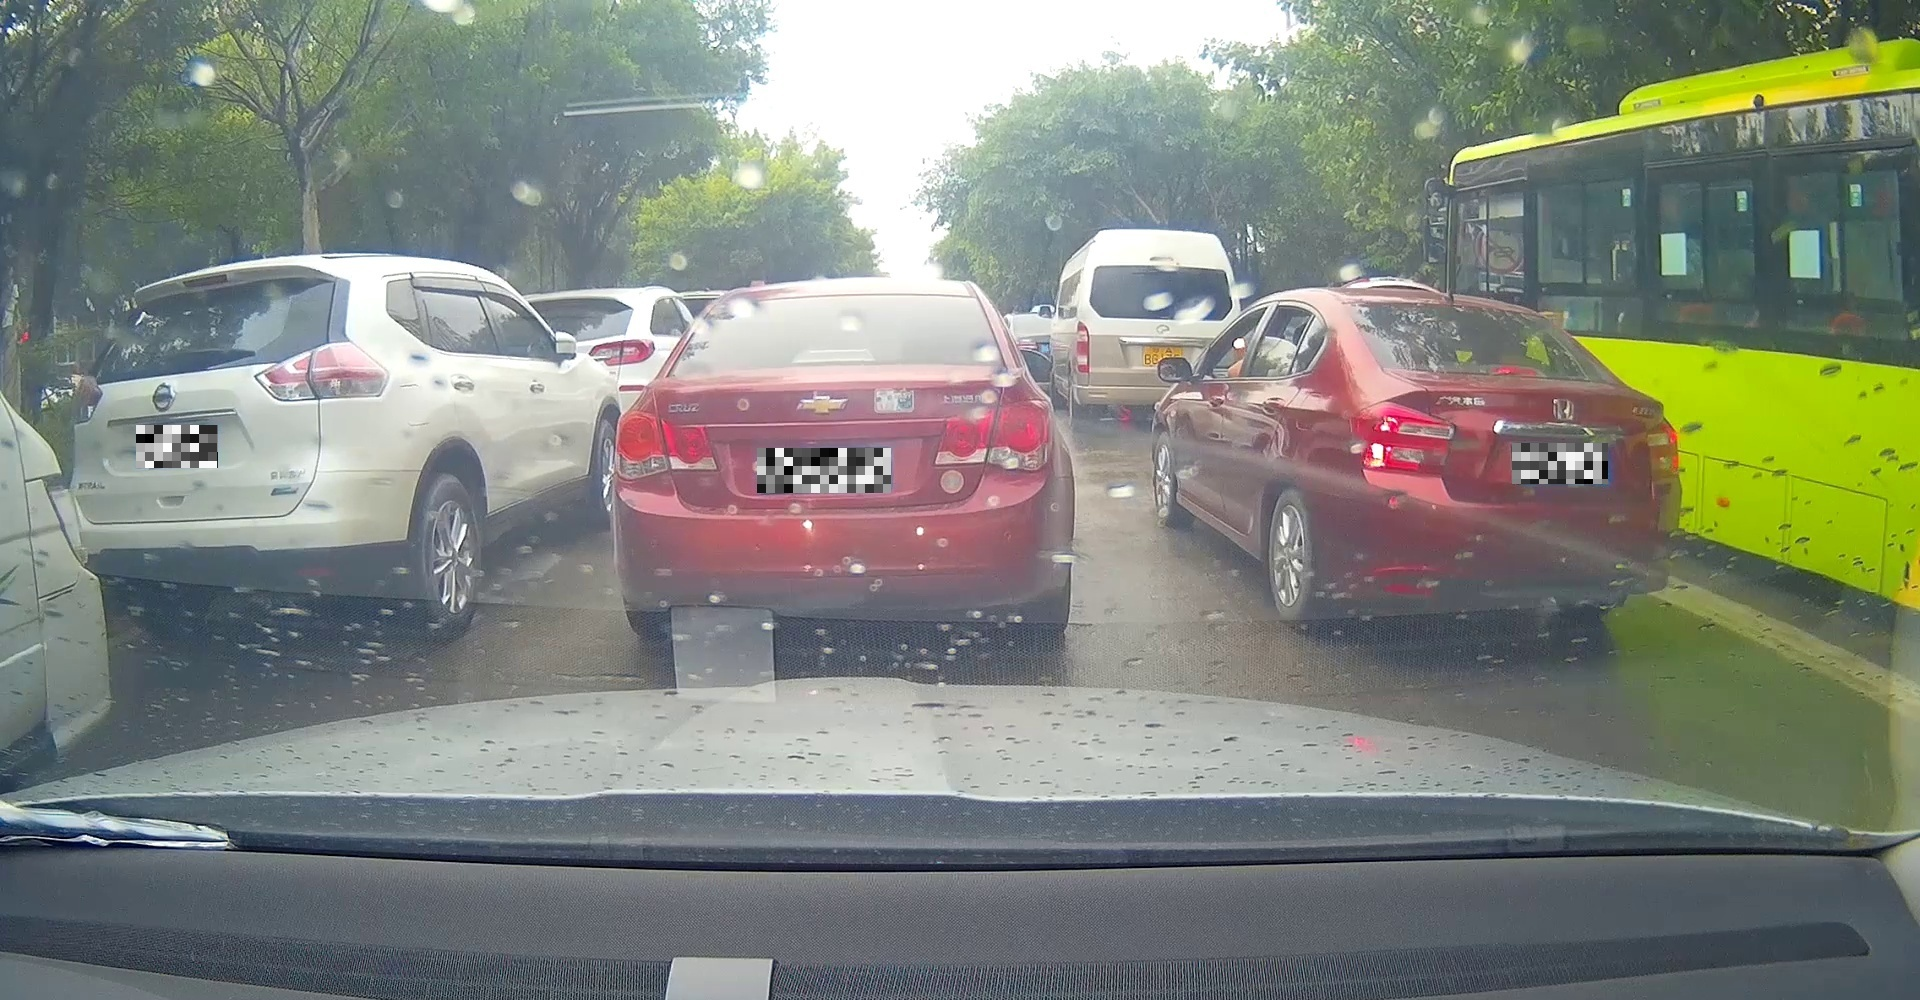L_light: (1349, 401, 1457, 477), (615, 411, 717, 482), (70, 376, 104, 424)
R_light: (933, 398, 1054, 470), (255, 341, 390, 402), (1627, 418, 1680, 484)
T_light: (791, 348, 872, 363), (182, 272, 229, 291), (1484, 365, 1547, 378)
day-brake: (1335, 288, 1683, 636)
day-no: (612, 277, 1076, 638), (70, 254, 394, 641)
plate_1: (136, 425, 218, 468)
plate_2: (757, 448, 891, 492)
plate_3: (1512, 443, 1608, 484)
